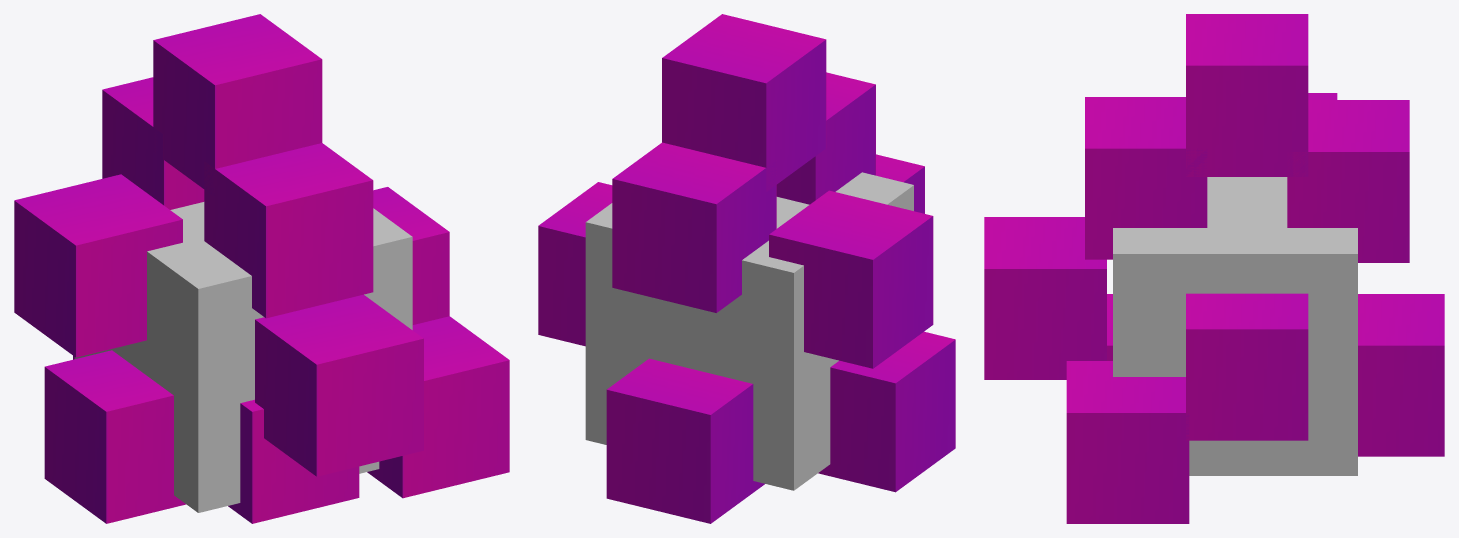
Rendered from EnemyCore.obj.
3 renders of one model, left to right at view 1: azimuth 30°, elevation 25°; view 2: azimuth 150°, elevation 25°; view 3: azimuth 270°, elevation 25°, orthographic. The views are drawn at different scales.
Parts seen in each view (by area): view 1: 立方体.009; view 2: 立方体.009; view 3: 立方体.009.
Part boxes in pixels (x1=…): 立方体.009: x1=14, y1=14, x2=509, y2=523; 立方体.009: x1=538, y1=14, x2=955, y2=523; 立方体.009: x1=984, y1=14, x2=1444, y2=523.
Bounding box in the file's own units: 3.35 × 3.57 × 3.76.
2 materials, 1 textured.
